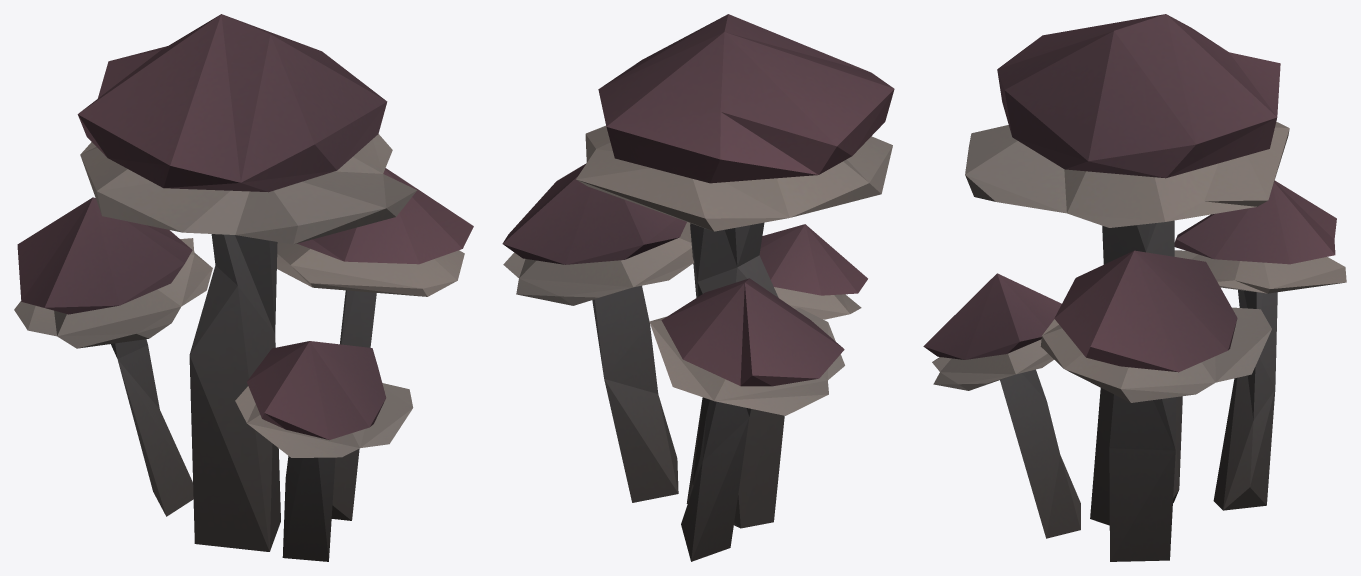
File: Mush_2B_LOD.fbx
3 renders of one model, left to right at view 1: azimuth 30°, elevation 25°; view 2: azimuth 150°, elevation 25°; view 3: azimuth 270°, elevation 25°, orthographic. The views are drawn at different scales.
Visible parts, largest first — view 1: polySurface1318; view 2: polySurface1318; view 3: polySurface1318.
Part boxes in pixels (x1,y1,x2,y2): polySurface1318: (14,14,473,561); polySurface1318: (502,14,894,561); polySurface1318: (923,14,1346,561).
Bounding box in the file's own units: 1.61 × 2.11 × 1.61.
